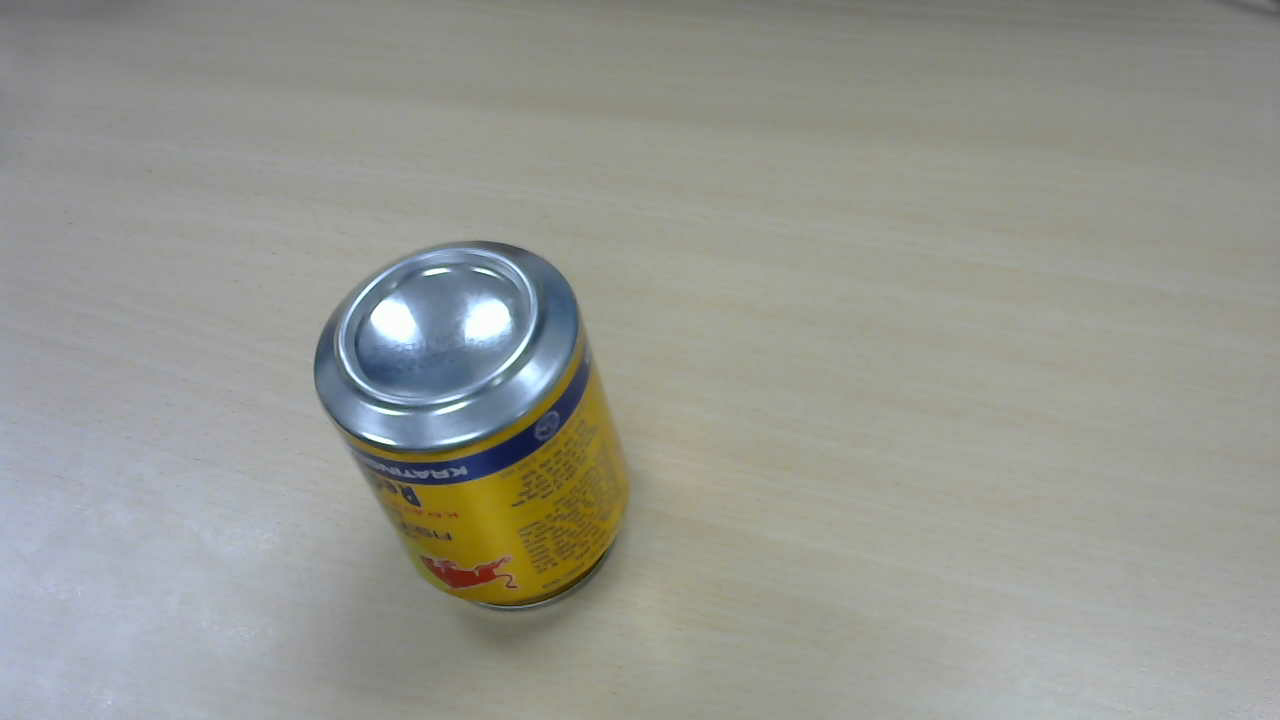Red_Bull: (316, 250, 631, 620)
